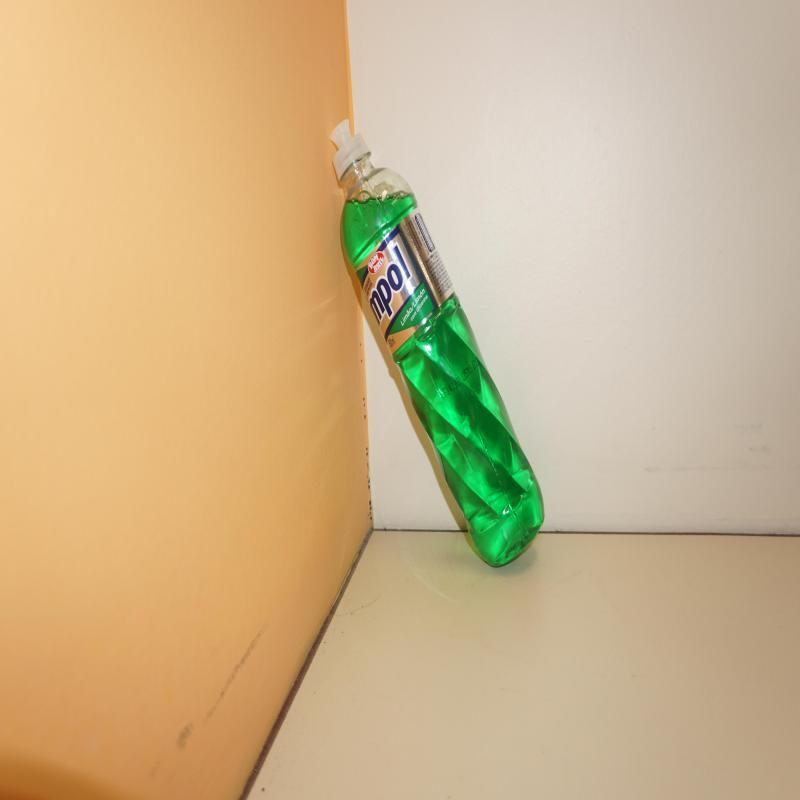Cleaner: (330, 120, 545, 571)
